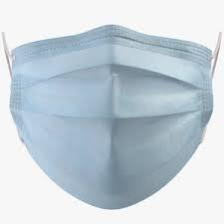mask: (4, 25, 223, 208)
